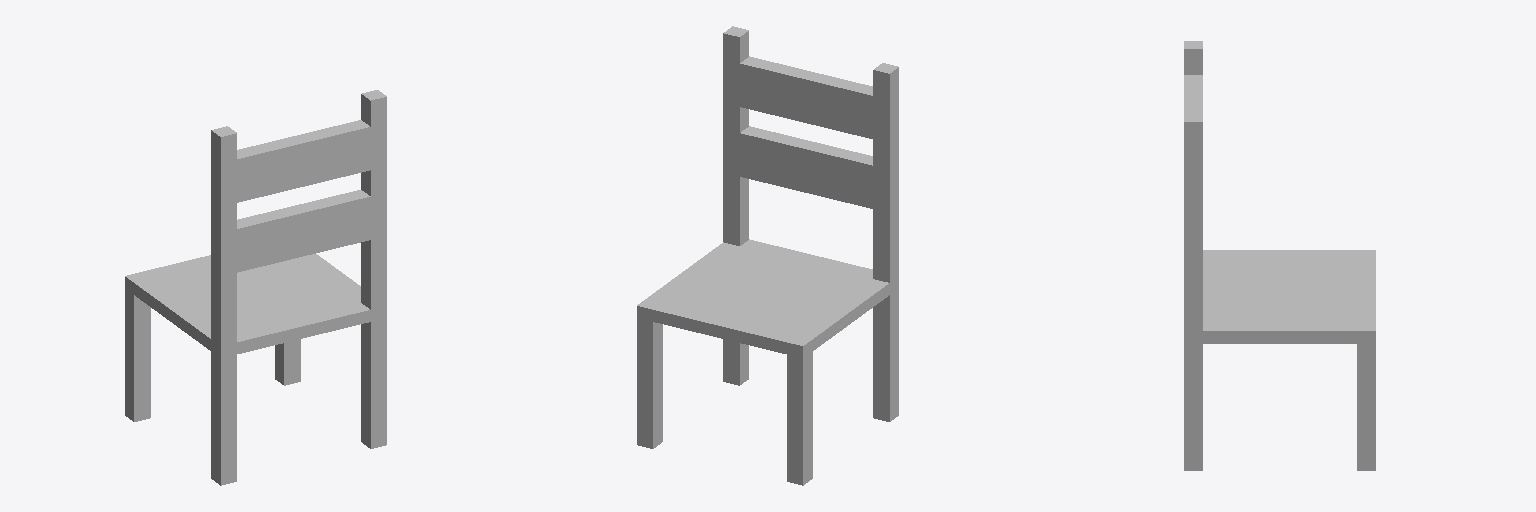
File: chair_1.obj
3 views of the same model, side by side, from view 1: azimuth 30°, elevation 25°; view 2: azimuth 150°, elevation 25°; view 3: azimuth 270°, elevation 25° (orthographic).
Visible parts, largest first — view 1: chair_01; view 2: chair_01; view 3: chair_01.
Boxes of the visible parts, x1,y1,x2,y2 form: chair_01: [125, 90, 386, 485]; chair_01: [637, 26, 898, 485]; chair_01: [1184, 41, 1375, 470].
Bounding box in the file's own units: 0.7314 × 1.46 × 0.7314.